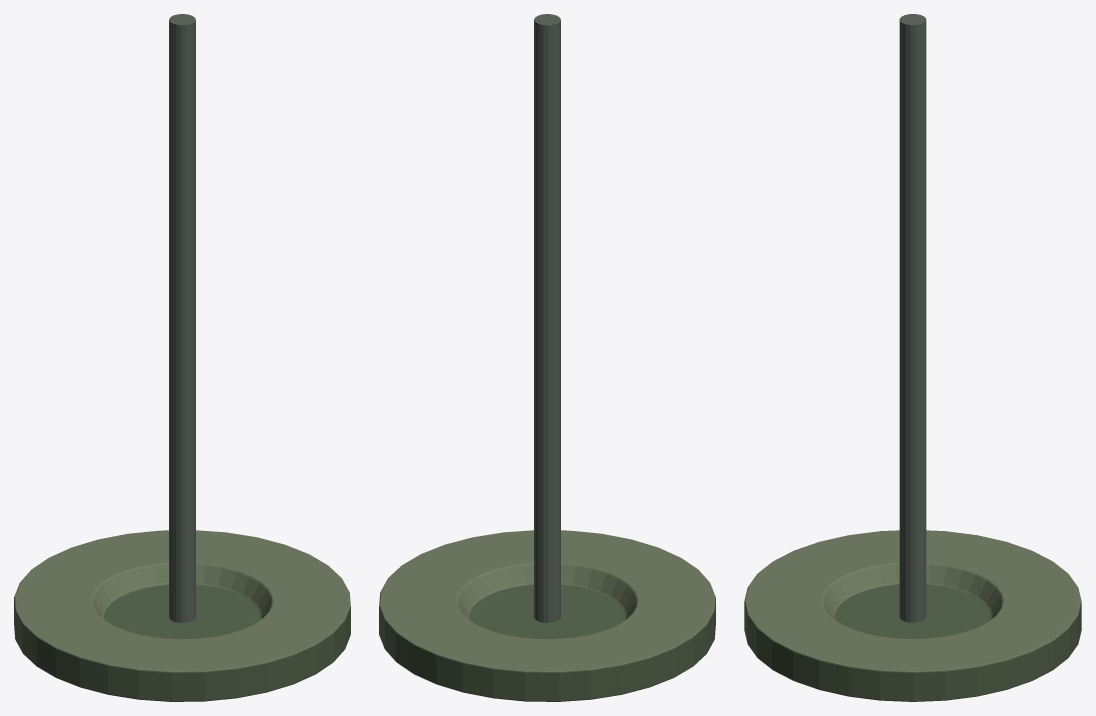
The model's file is mortar_player_mount.glb.
The picture shows the model from 3 angles, left to right: view 1: azimuth 30°, elevation 25°; view 2: azimuth 150°, elevation 25°; view 3: azimuth 270°, elevation 25°; orthographic projection.
Parts seen in each view (by area): view 1: Baseplate, RightSupport, LeftSupport; view 2: Baseplate, LeftSupport, RightSupport; view 3: Baseplate, RightSupport, LeftSupport.
Part boxes in pixels (x1,y1,x2,y2): Baseplate: (14, 530, 350, 701); RightSupport: (169, 14, 195, 622); LeftSupport: (169, 14, 195, 622); Baseplate: (379, 530, 715, 701); LeftSupport: (534, 14, 560, 622); RightSupport: (534, 14, 560, 622); Baseplate: (744, 530, 1081, 701); RightSupport: (899, 14, 926, 622); LeftSupport: (899, 14, 926, 622).
Bounding box in the file's own units: 0.5 × 1 × 0.5.
